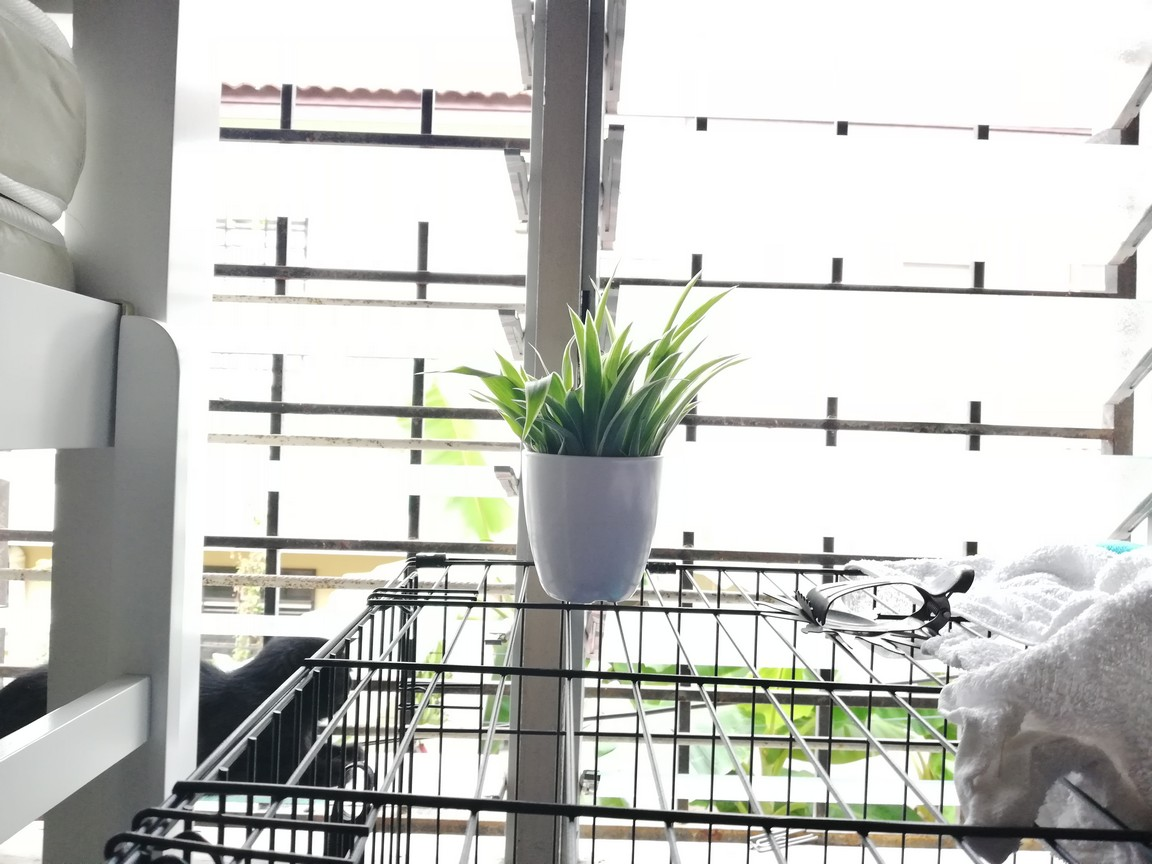daun: (412, 363, 498, 387), (600, 251, 625, 309), (698, 284, 742, 313), (673, 266, 705, 304), (583, 308, 601, 366), (565, 302, 584, 353), (653, 349, 684, 375), (492, 348, 518, 377), (530, 341, 550, 375), (470, 388, 501, 409), (637, 337, 662, 361), (693, 331, 714, 358), (681, 399, 706, 421), (589, 274, 604, 306), (663, 322, 680, 349), (708, 350, 743, 363), (616, 318, 634, 338), (464, 393, 491, 405), (620, 336, 639, 352), (518, 362, 531, 382), (510, 398, 530, 410), (513, 386, 534, 396), (737, 356, 755, 367), (515, 415, 532, 424), (498, 368, 504, 377)
